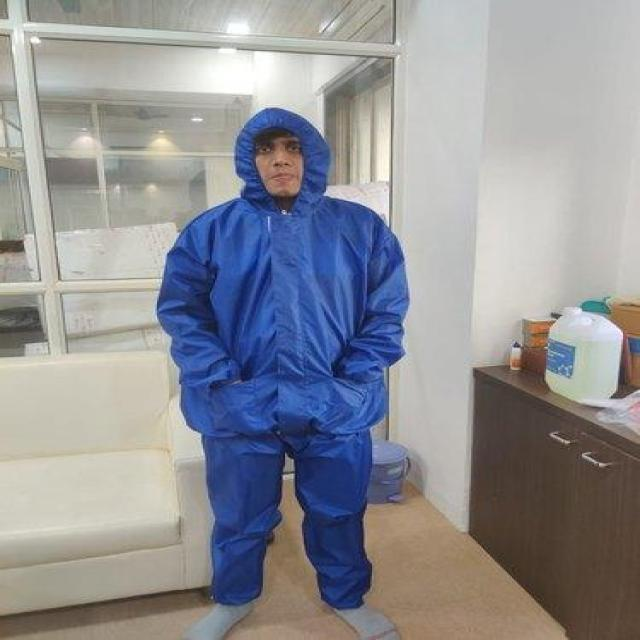Coverall: (102, 39, 450, 640)
